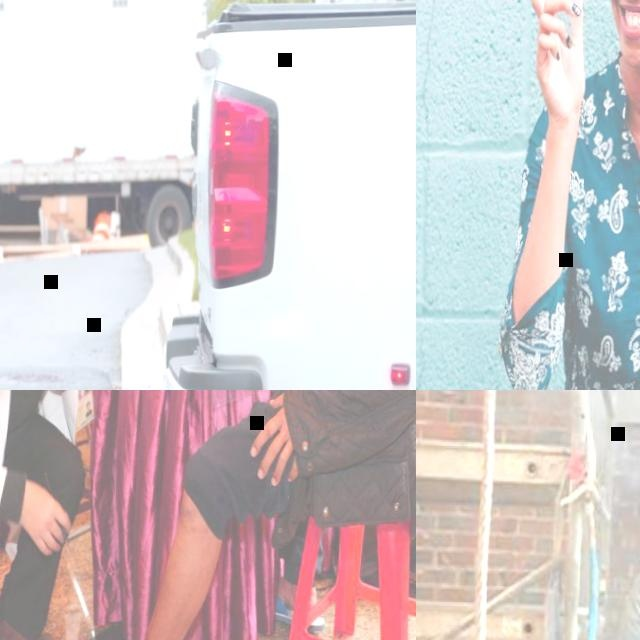NO-Mask: (609, 0, 640, 68)
NO-Safety Vest: (548, 58, 640, 390)
Person: (102, 390, 416, 640), (496, 0, 640, 390), (0, 390, 186, 640), (561, 390, 640, 640)
Safety Cone: (93, 213, 114, 244)
vehicle: (100, 0, 416, 390)
